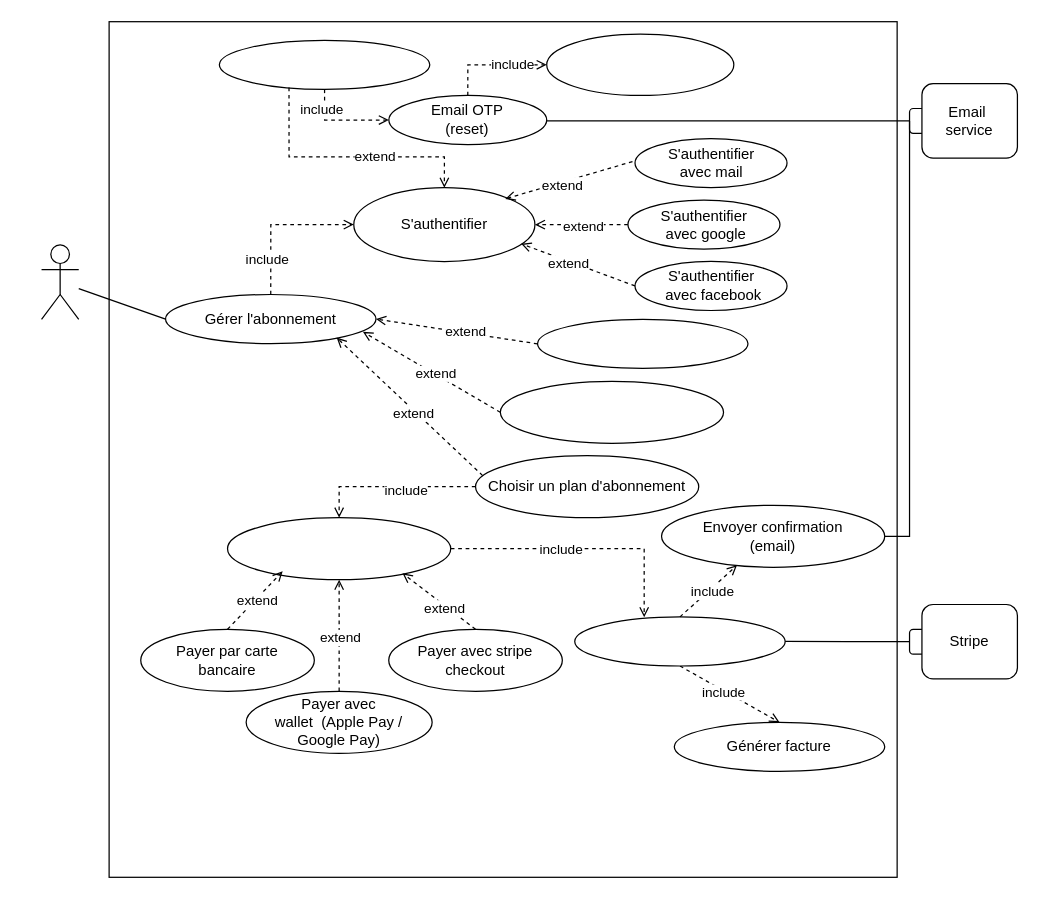
The diagram is 1039 pixels wide and 899 high, and some of its shapes have lost their labels. Here are the shapes that lost their labels. From the top down, the box of each, then its label:
(218, 39, 430, 89): Oublier le mot de passe
(545, 33, 734, 95): Réinitialiser mot de passe
(40, 244, 79, 319): Propriétaire de Boutique
(536, 318, 748, 368): Vérifier éligibilité
(499, 380, 724, 443): Consulter l'abonnement et historique
(226, 516, 451, 580): Effectuer le paiement (Stripe)
(574, 616, 785, 666): Traiter paiement
